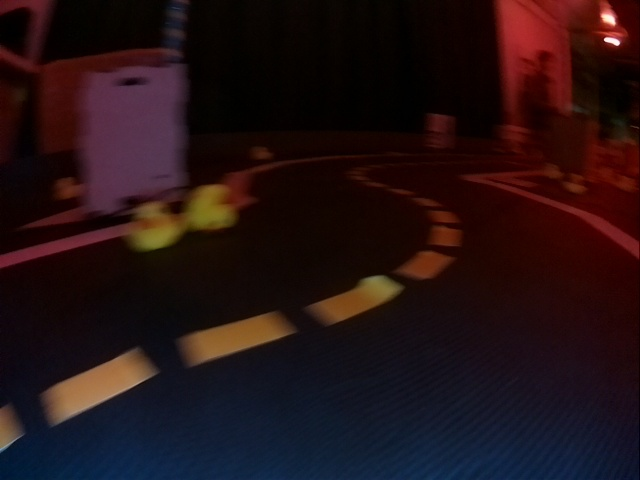Duckie: (128, 203, 180, 248), (189, 186, 233, 228)
